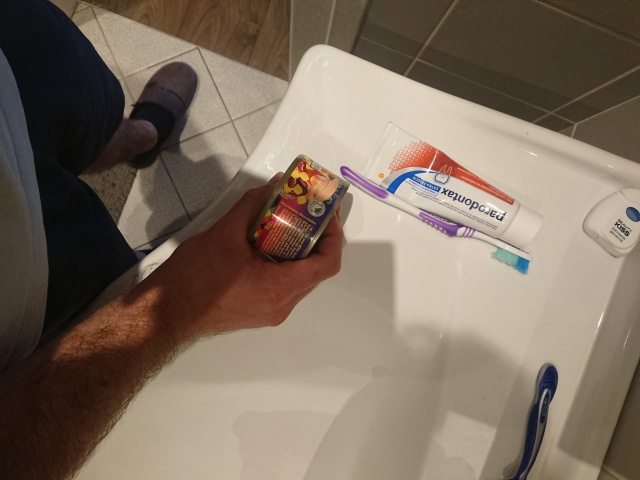Giana Tuna Salad Mexico 185g: (245, 150, 354, 274)
